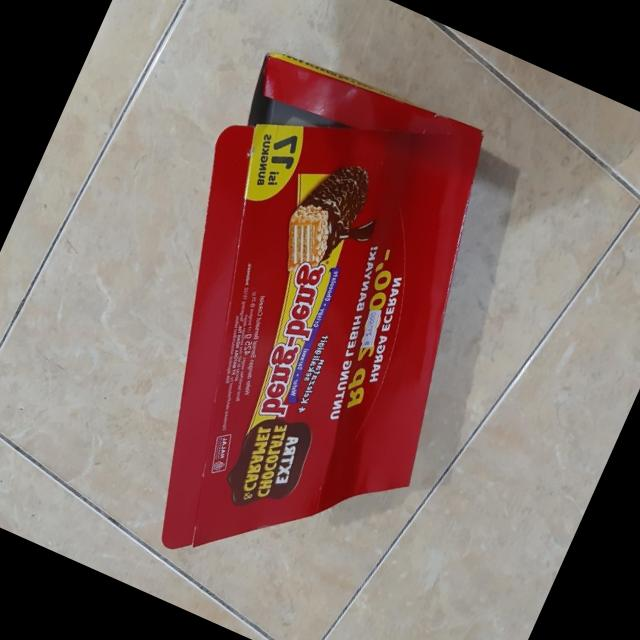Kardus: (57, 34, 553, 628)
